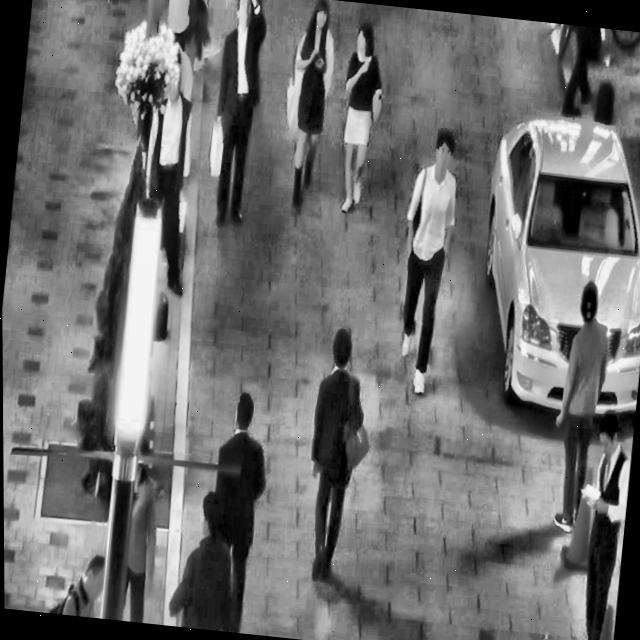light_vehicle: (460, 90, 640, 430)
